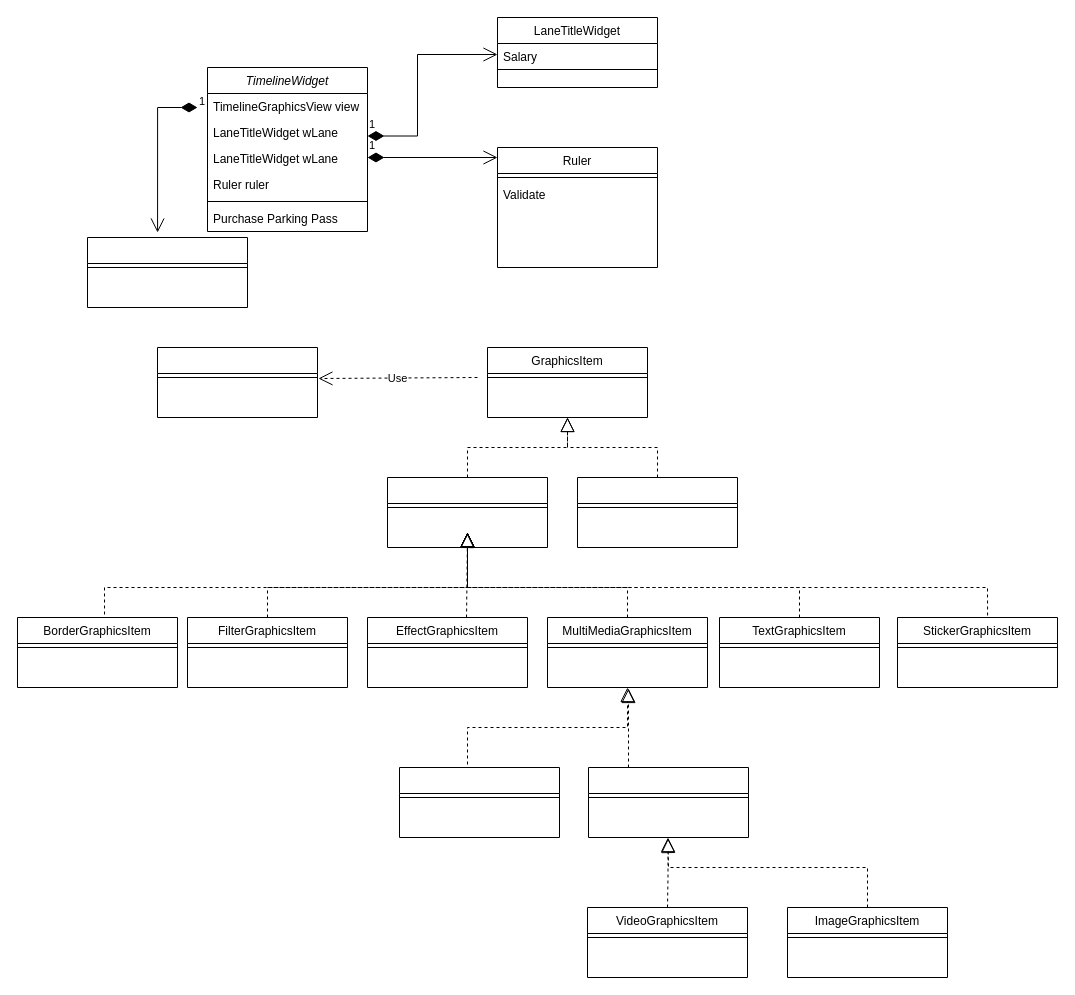
This 1075x995 diagram has some shape labels left out. Each missing label, with the centre of its shape:
"AudioGraphicsItem" belongs at pixel 479 802.
"LaneGraphicsItem" belongs at pixel 657 512.
"MediaGraphicsItem" belongs at pixel 668 802.
"TimelineGraphicsScene" belongs at pixel 237 382.
"TimelineGraphicsView" belongs at pixel 167 272.
"TrackGraphicsItem" belongs at pixel 467 512.
